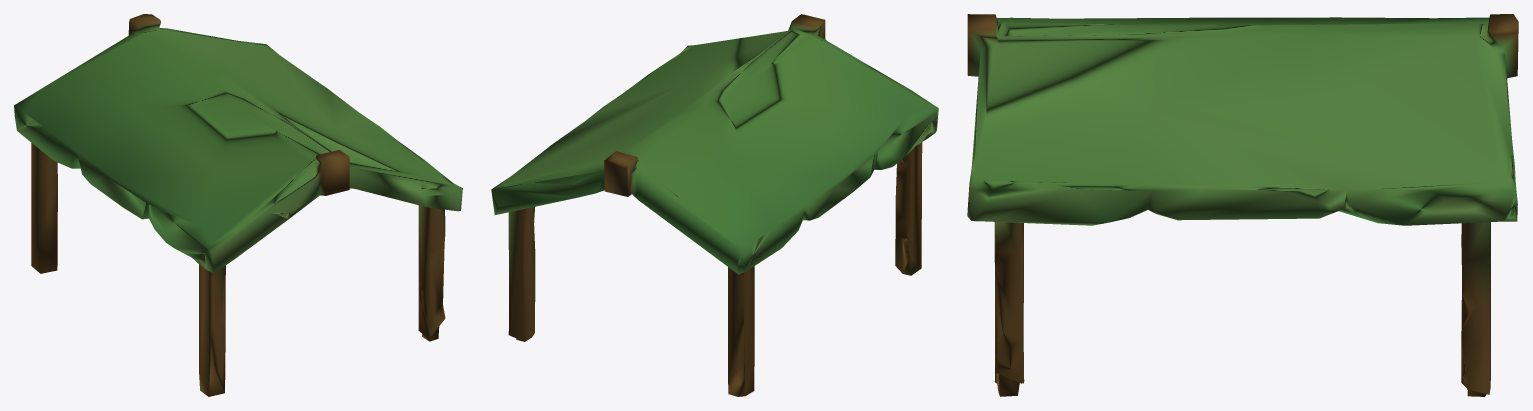
File: gen3d-awning-lod1.glb
The picture shows the model from 3 angles, left to right: view 1: azimuth 30°, elevation 25°; view 2: azimuth 150°, elevation 25°; view 3: azimuth 270°, elevation 25°; orthographic projection. The views are drawn at different scales.
Visible parts, largest first — view 1: part_0; view 2: part_0; view 3: part_0.
Boxes of the visible parts, box(x1,y1,x2,y2) form: part_0: box(14, 14, 462, 396); part_0: box(491, 14, 938, 396); part_0: box(967, 14, 1518, 396).
Size of the model in its own units: 1.22 by 0.9979 by 1.66.
